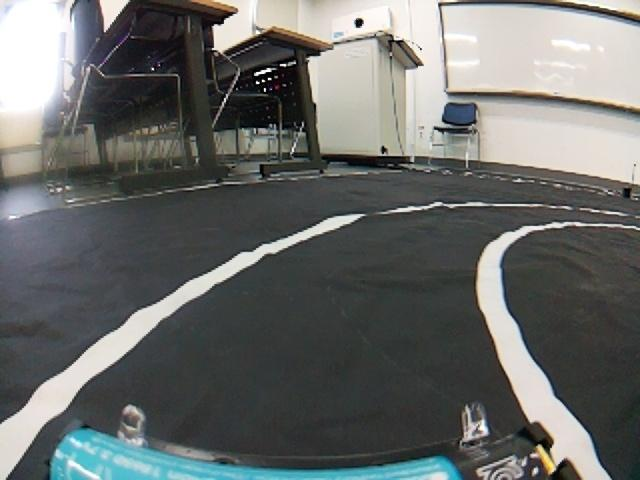right: (0, 198, 640, 474)
